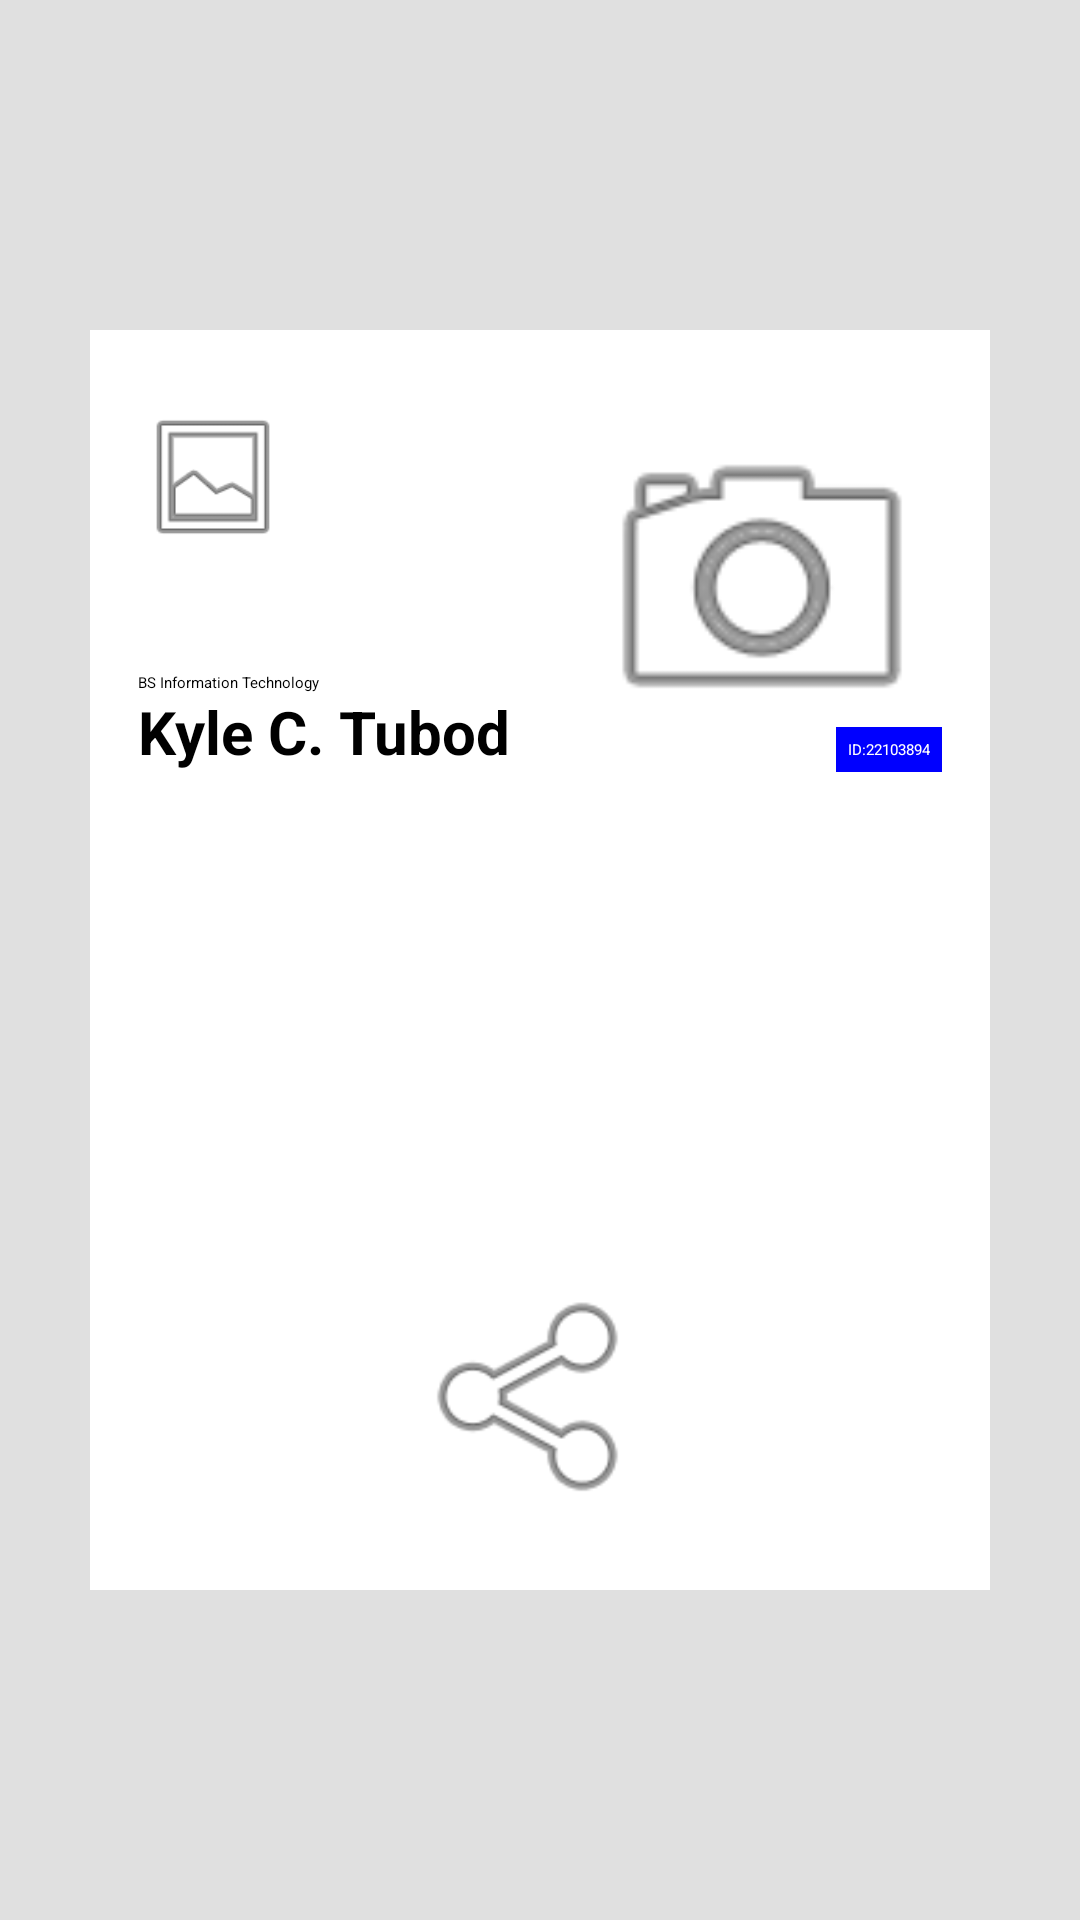

Named icons in this screenshot (1080x1920) and their bounding boxes, (x1=x1, y1=y1, x2=x2, y2=y2):
camera: (x1=623, y1=465, x2=901, y2=687)
gallery: (x1=156, y1=420, x2=270, y2=534)
share: (x1=437, y1=1303, x2=618, y2=1491)
